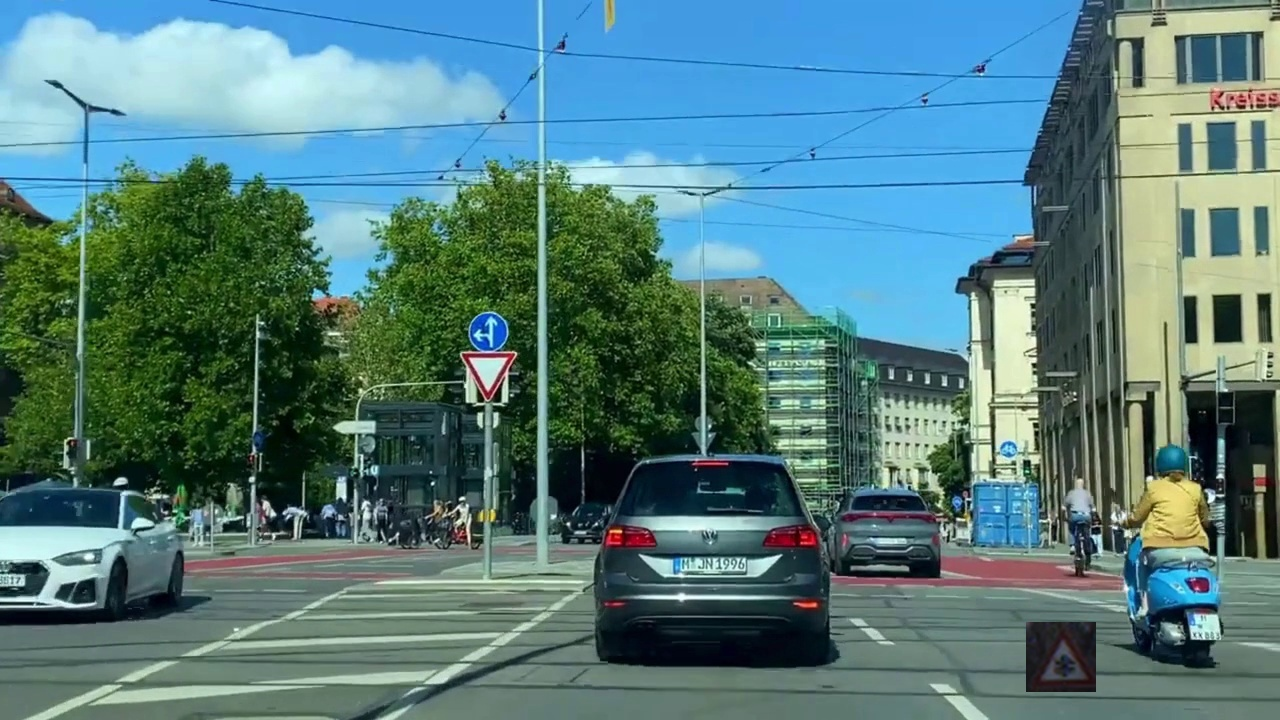Ice/snow: (1026, 622, 1096, 692)
